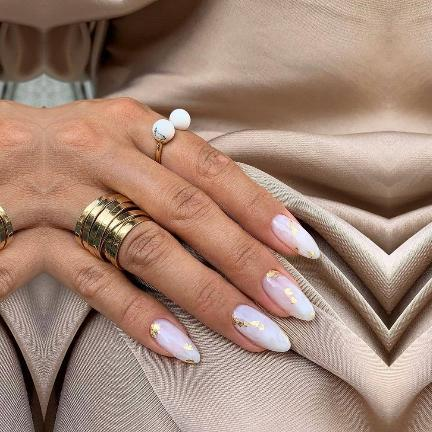Nail: (231, 304, 290, 352), (262, 270, 315, 321), (148, 318, 200, 364), (272, 215, 319, 258)
